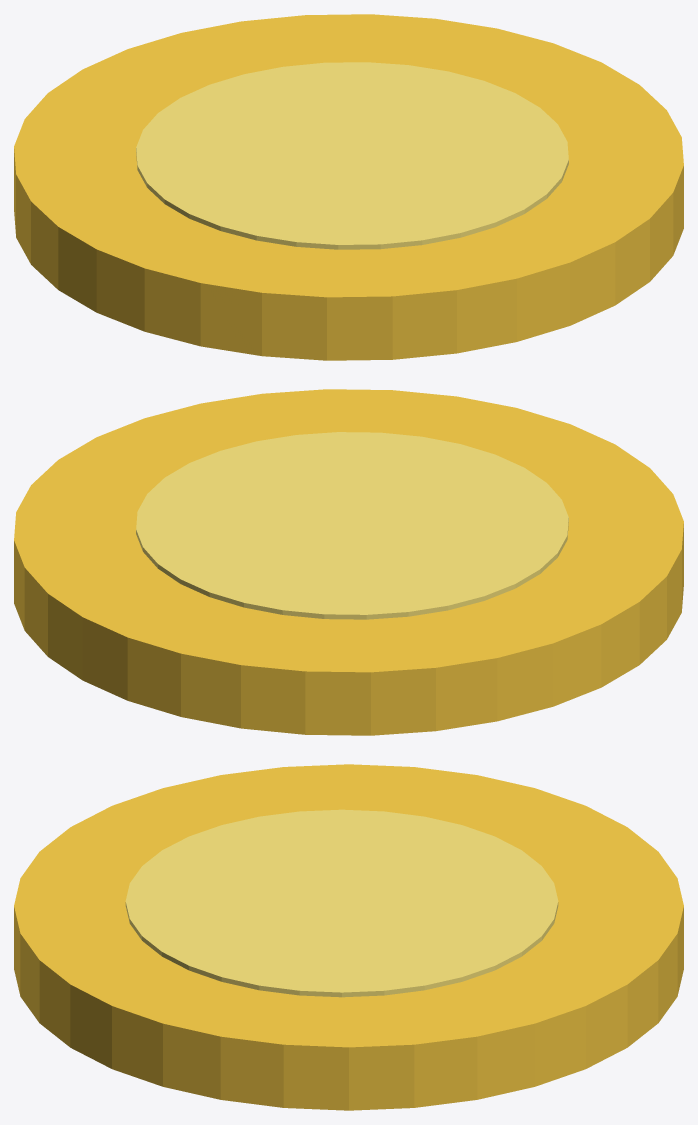
The model's file is gold_coin.glb.
3 views of the same model, one above another, from view 1: azimuth 30°, elevation 25°; view 2: azimuth 150°, elevation 25°; view 3: azimuth 270°, elevation 25° (orthographic).
Visible parts, largest first — view 1: coin, coin_center; view 2: coin, coin_center; view 3: coin, coin_center.
Part boxes in pixels (x1,y1,x2,y2): coin: [14, 14, 683, 360]; coin_center: [136, 62, 568, 249]; coin: [14, 389, 683, 735]; coin_center: [136, 432, 568, 619]; coin: [14, 764, 683, 1110]; coin_center: [125, 809, 558, 997].
Bounding box in the file's own units: 0.96 × 0.115 × 0.96.
